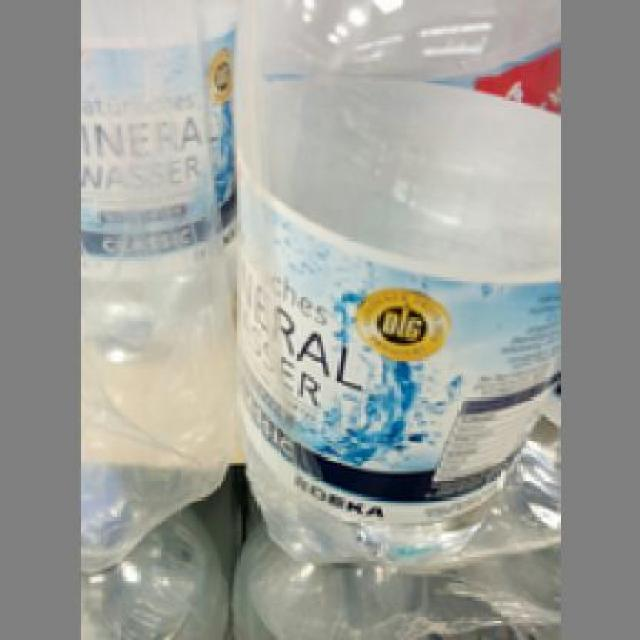Water: (232, 6, 554, 560)
